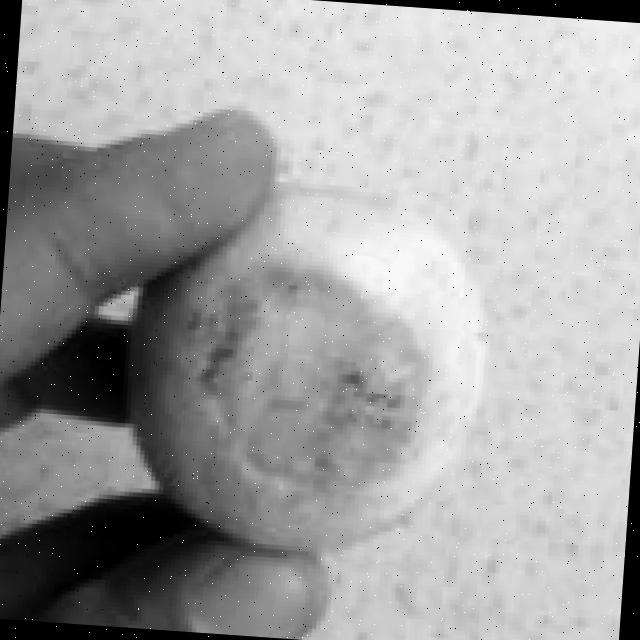Bad_Lime-0-1-day: (123, 180, 490, 552)
